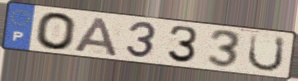3: (206, 28, 243, 70), (123, 20, 158, 61), (166, 25, 200, 65)
A: (72, 15, 120, 58)
O: (34, 11, 78, 52)
U: (245, 32, 288, 73)
